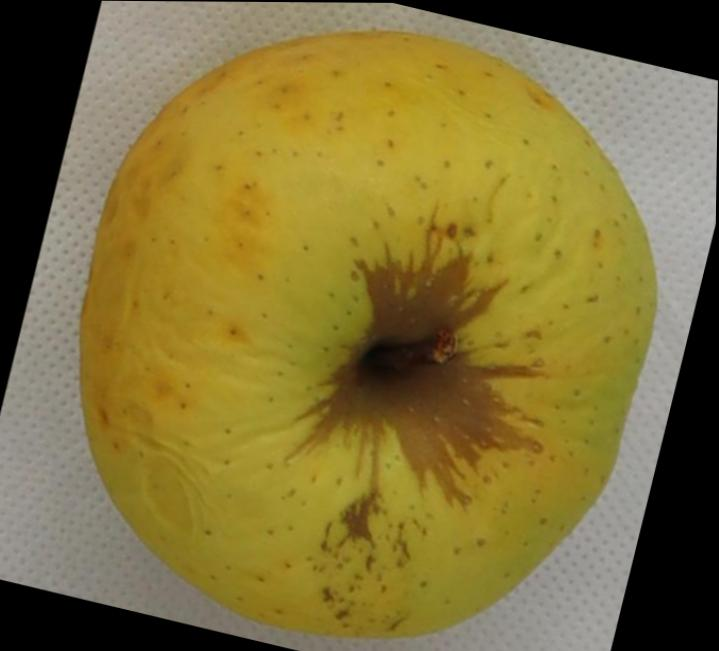apple: (81, 30, 656, 638)
bruise_discoloration: (288, 224, 547, 547)
